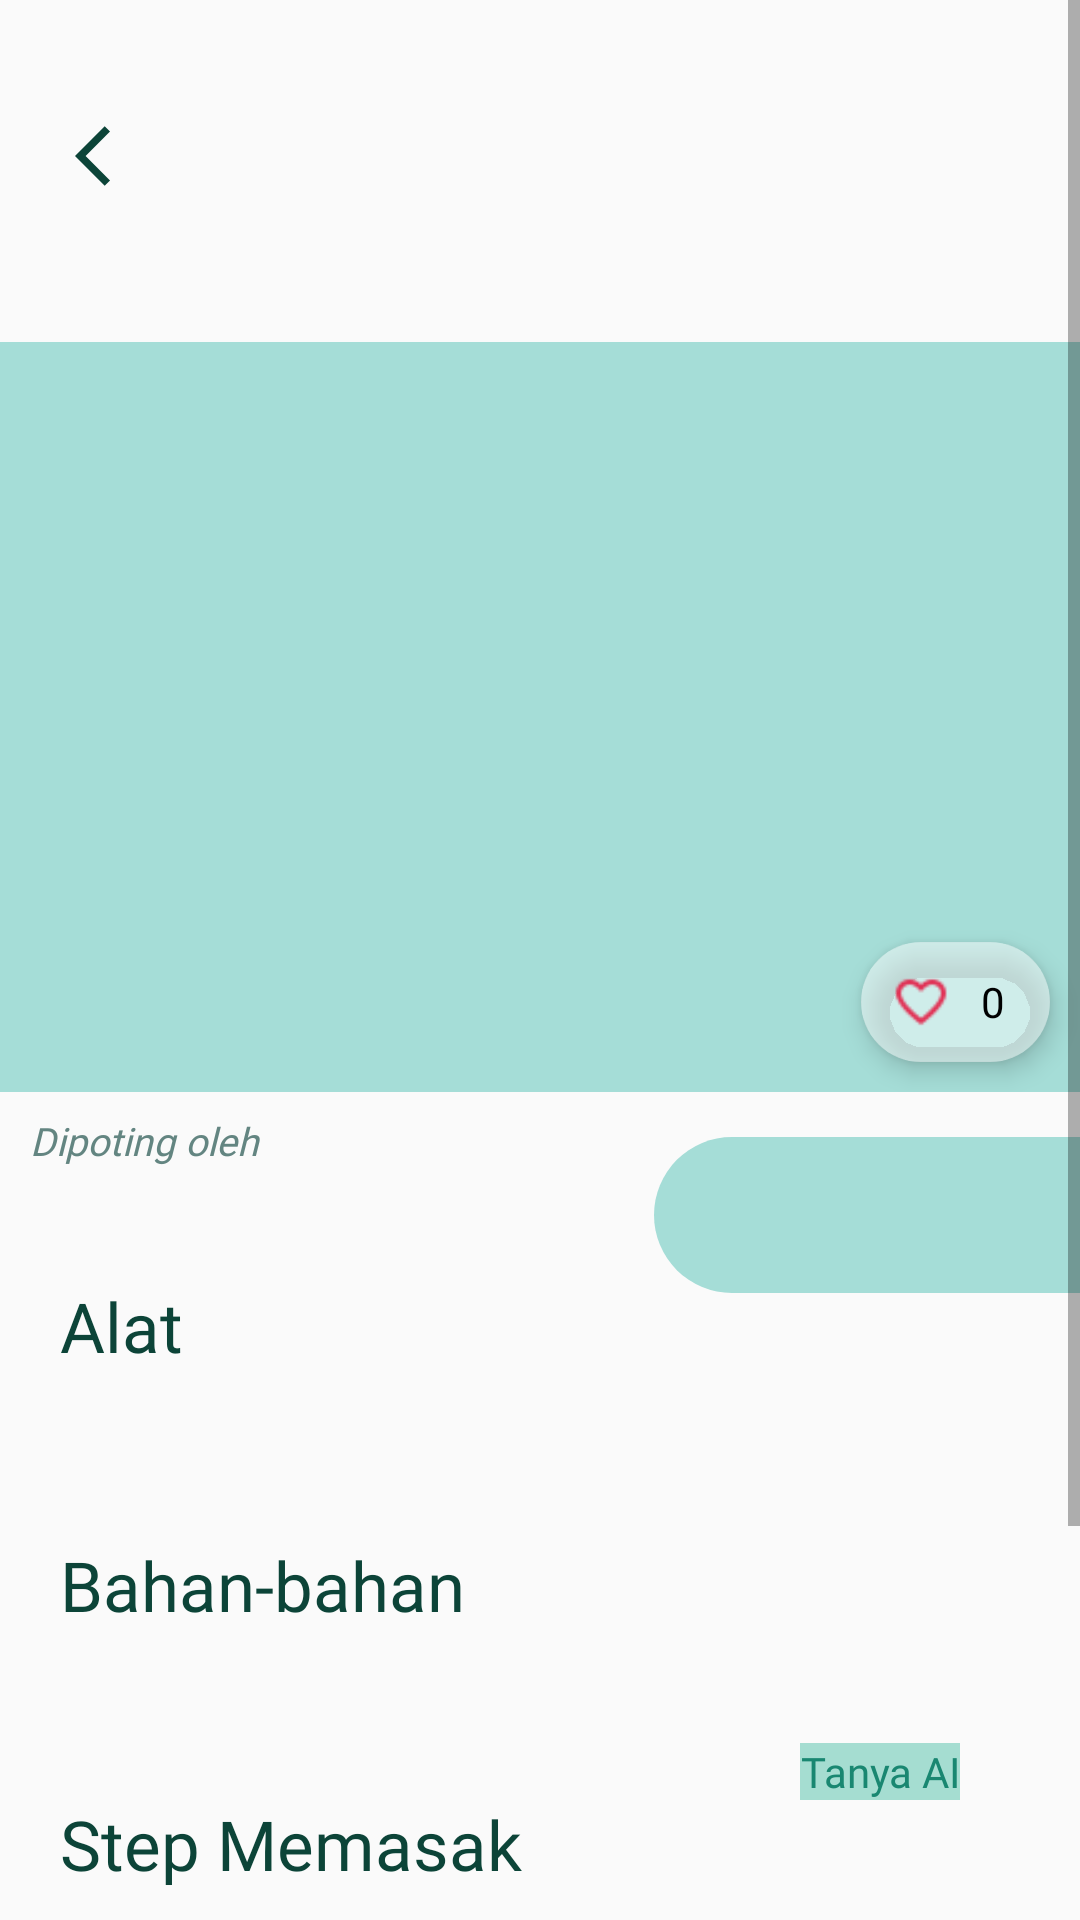

Screen size 1080*1920. Icon name, then its center in pixels as point (x, y):
arrow back: point (92, 156)
Like Button: point (921, 1002)
